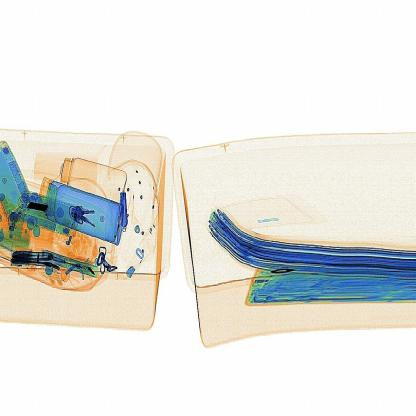knife: (113, 181, 144, 233)
